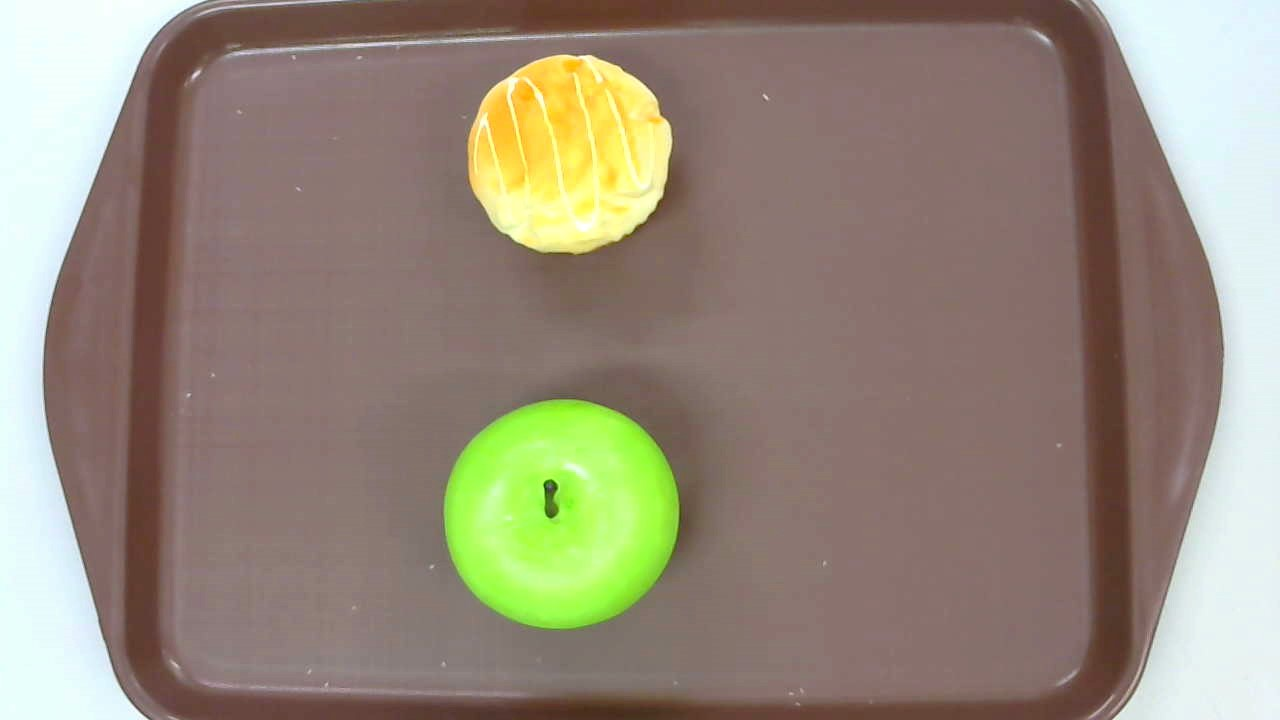cupcake: (466, 54, 674, 254)
green apple: (443, 398, 680, 631)
